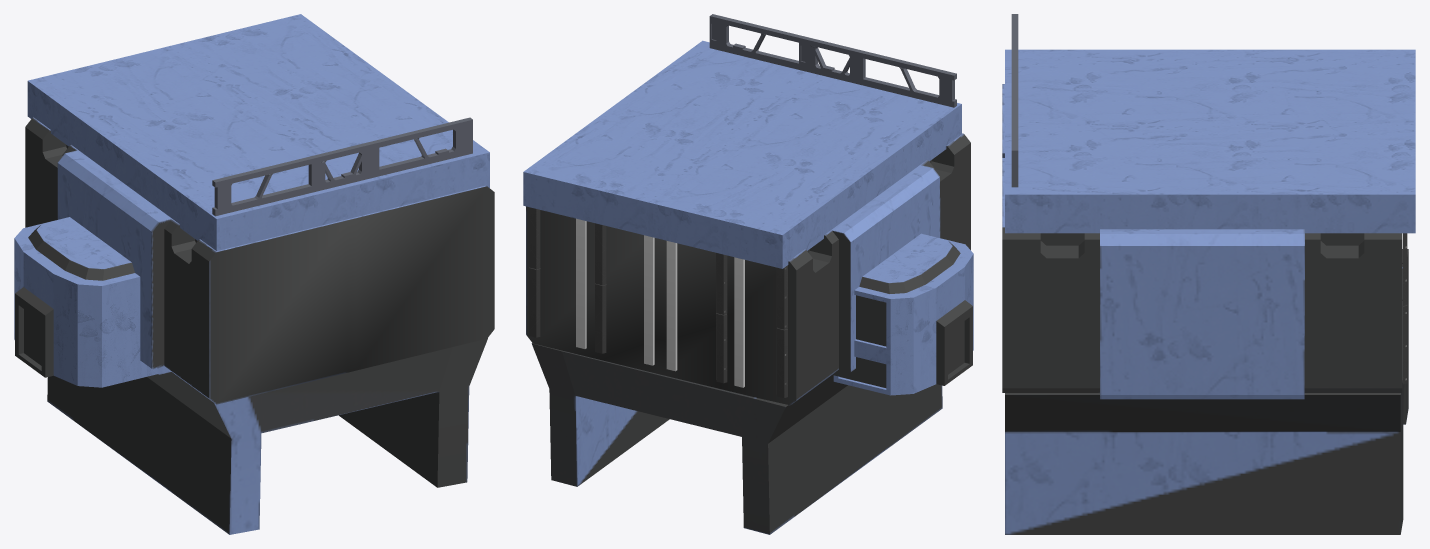
The model's file is 第三階.fbx.
3 views of the same model, side by side, from view 1: azimuth 30°, elevation 25°; view 2: azimuth 150°, elevation 25°; view 3: azimuth 270°, elevation 25° (orthographic). The views are drawn at different scales.
Visible parts, largest first — view 1: Cube_244, Cube_244_001; view 2: Cube_244, Cube_244_001, KB3D_HTS_BldgMD_B_Main.001, KB3D_HTS_BldgMD_B_Main__1_; view 3: Cube_244, Cube_244_001, KB3D_HTS_BldgMD_B_Main.001.
Boxes of the visible parts, left/top/right/bottom form: Cube_244: left=14, top=14, right=494, bottom=534; Cube_244_001: left=212, top=117, right=472, bottom=216; Cube_244: left=523, top=40, right=973, bottom=534; Cube_244_001: left=709, top=14, right=956, bottom=107; KB3D_HTS_BldgMD_B_Main.001: left=529, top=207, right=727, bottom=383; KB3D_HTS_BldgMD_B_Main__1_: left=595, top=223, right=787, bottom=397; Cube_244: left=1002, top=49, right=1415, bottom=534; Cube_244_001: left=1011, top=14, right=1018, bottom=187; KB3D_HTS_BldgMD_B_Main.001: left=1402, top=233, right=1407, bottom=384.
Size of the model in its own units: 2594 by 2331 by 2244.
